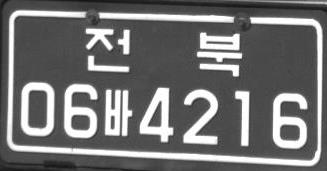0: (19, 80, 55, 136)
1: (226, 90, 260, 146)
2: (182, 88, 219, 145)
4: (138, 85, 173, 142)
6: (62, 81, 98, 138), (272, 92, 308, 149)
바: (102, 88, 132, 137)
전북_D: (85, 26, 243, 78)
